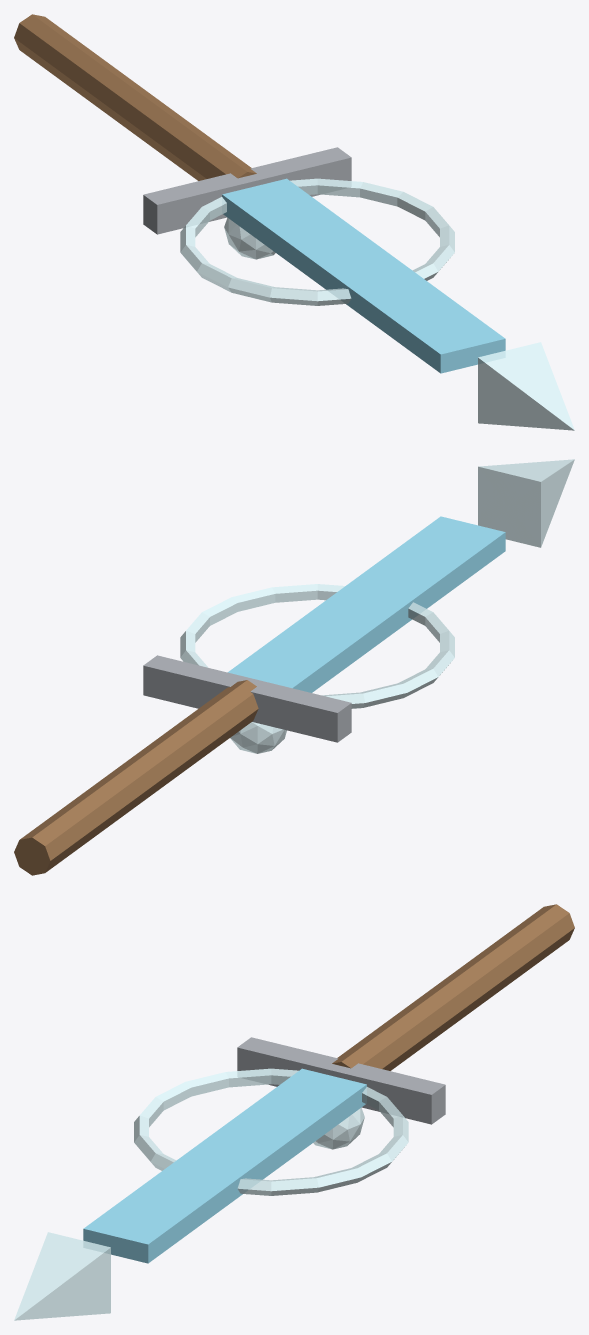
Rendered from 03_magic_weapon_upgrade.glb.
The picture shows the model from 3 angles, top to bottom: view 1: azimuth 30°, elevation 25°; view 2: azimuth 150°, elevation 25°; view 3: azimuth 330°, elevation 25°; orthographic projection.
Parts seen in each view (by area): view 1: enchanted_blade_or_focus, weapon_handle, rune_orbit, weapon_guard, weapon_tip, gem_socket; view 2: enchanted_blade_or_focus, weapon_handle, weapon_guard, weapon_tip, rune_orbit, gem_socket; view 3: enchanted_blade_or_focus, weapon_handle, rune_orbit, weapon_guard, weapon_tip, gem_socket.
Boxes of the visible parts, <box> form: enchanted_blade_or_focus: <box>222,178,505,373</box>; weapon_handle: <box>14,14,256,180</box>; rune_orbit: <box>180,178,454,305</box>; weapon_guard: <box>143,147,351,234</box>; weapon_tip: <box>478,342,574,430</box>; gem_socket: <box>224,217,275,259</box>; enchanted_blade_or_focus: <box>228,516,505,692</box>; weapon_handle: <box>14,680,258,875</box>; weapon_guard: <box>143,655,351,742</box>; weapon_tip: <box>478,459,574,547</box>; rune_orbit: <box>180,584,454,708</box>; gem_socket: <box>230,722,286,753</box>; enchanted_blade_or_focus: <box>83,1068,366,1263</box>; weapon_handle: <box>332,904,574,1070</box>; rune_orbit: <box>134,1068,408,1195</box>; weapon_guard: <box>237,1037,445,1124</box>; weapon_tip: <box>14,1232,110,1320</box>; gem_socket: <box>313,1107,364,1149</box>.
Size of the model in its own units: 0.596 by 0.2178 by 2.32.
